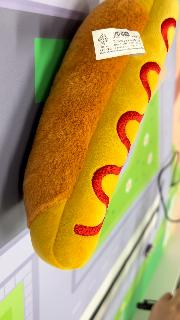hotdog: (22, 1, 178, 271)
